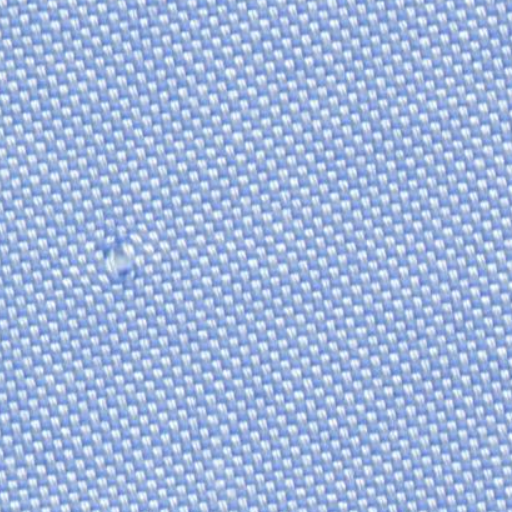PoDong: (92, 214, 162, 292)
